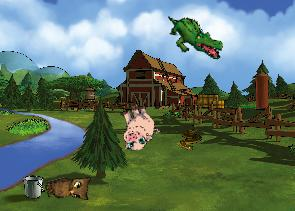crocodile: (162, 14, 227, 60)
owl: (43, 171, 95, 210)
pig: (112, 101, 162, 153)
